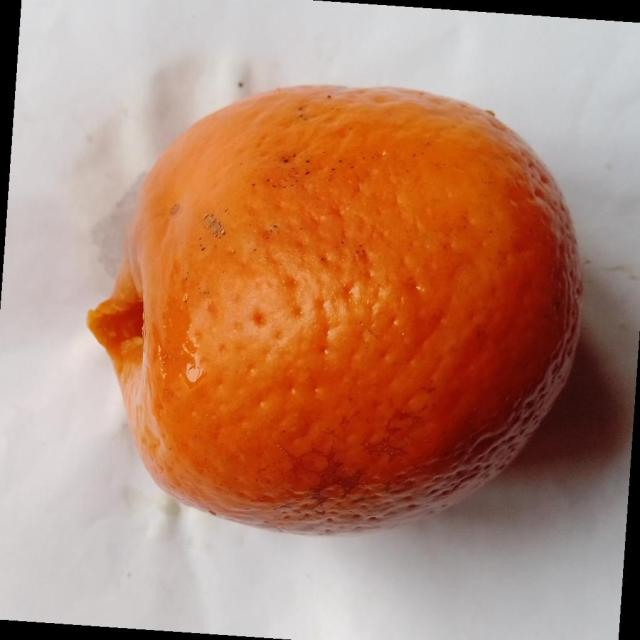overripe: (90, 79, 598, 544)
